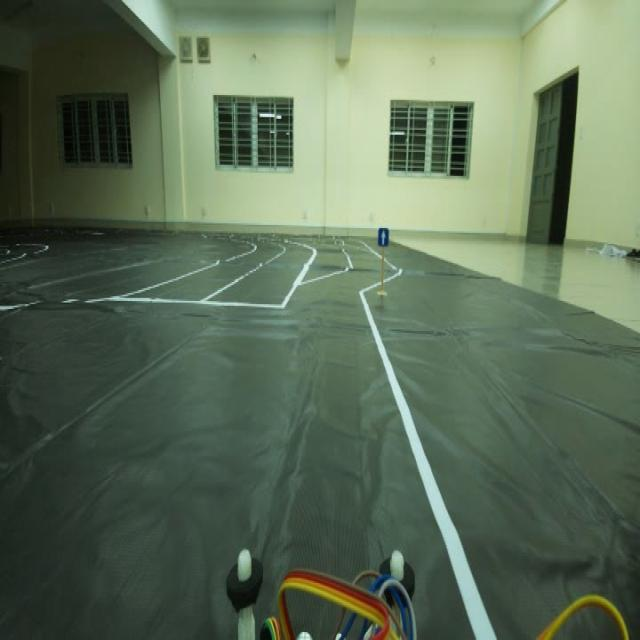onewayroad: (375, 220, 392, 255)
